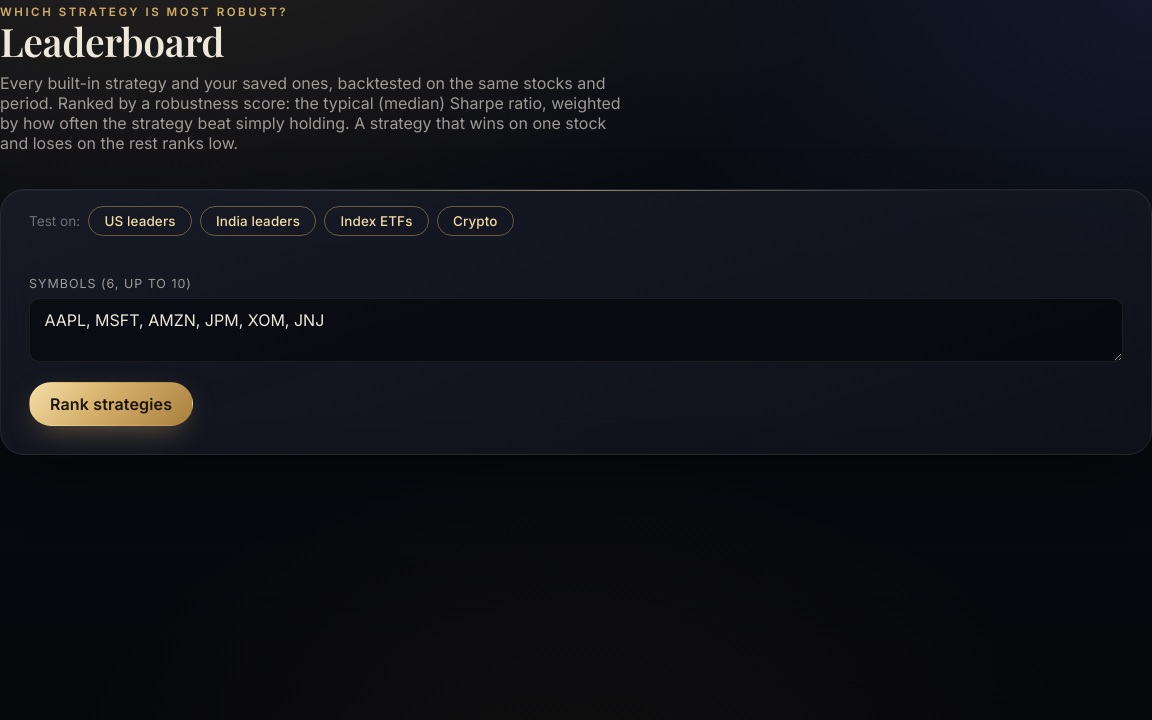
Test: SIP, options and leaderboard pages › ranks strategies and expands a row
Step 1. Click the button "Rank strategies" → (111, 404), box [29,382,193,426]
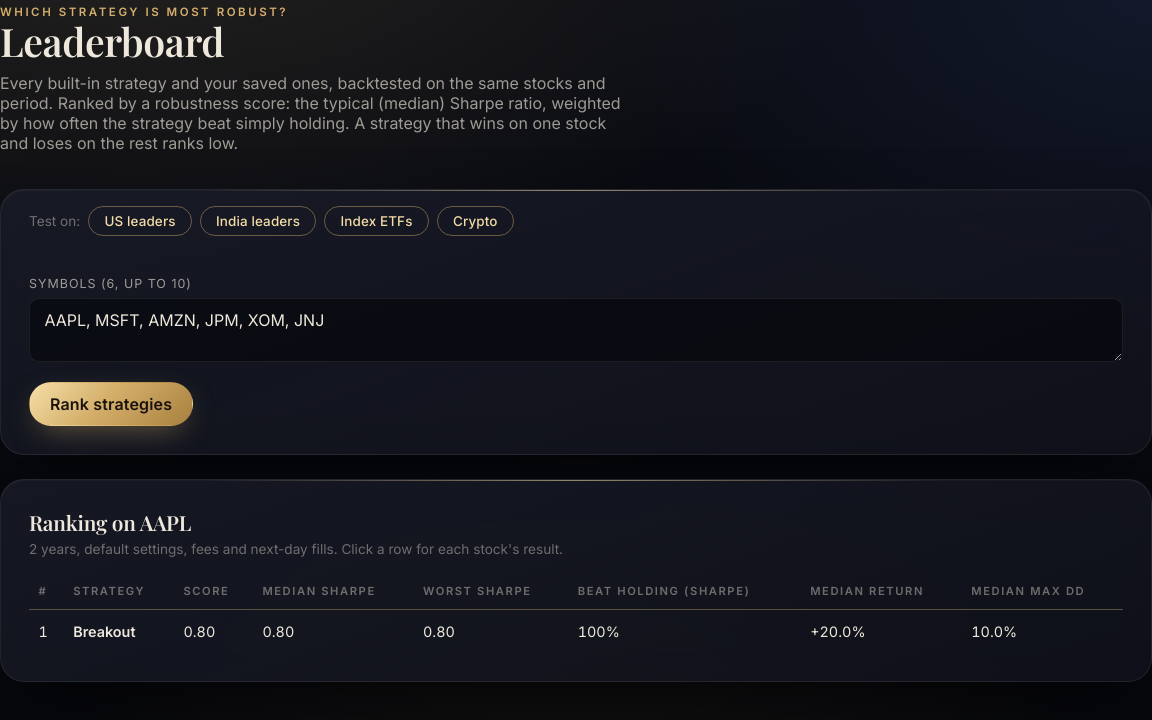
Step 2. Click the text "Breakout" → (104, 631), box [73,623,136,640]
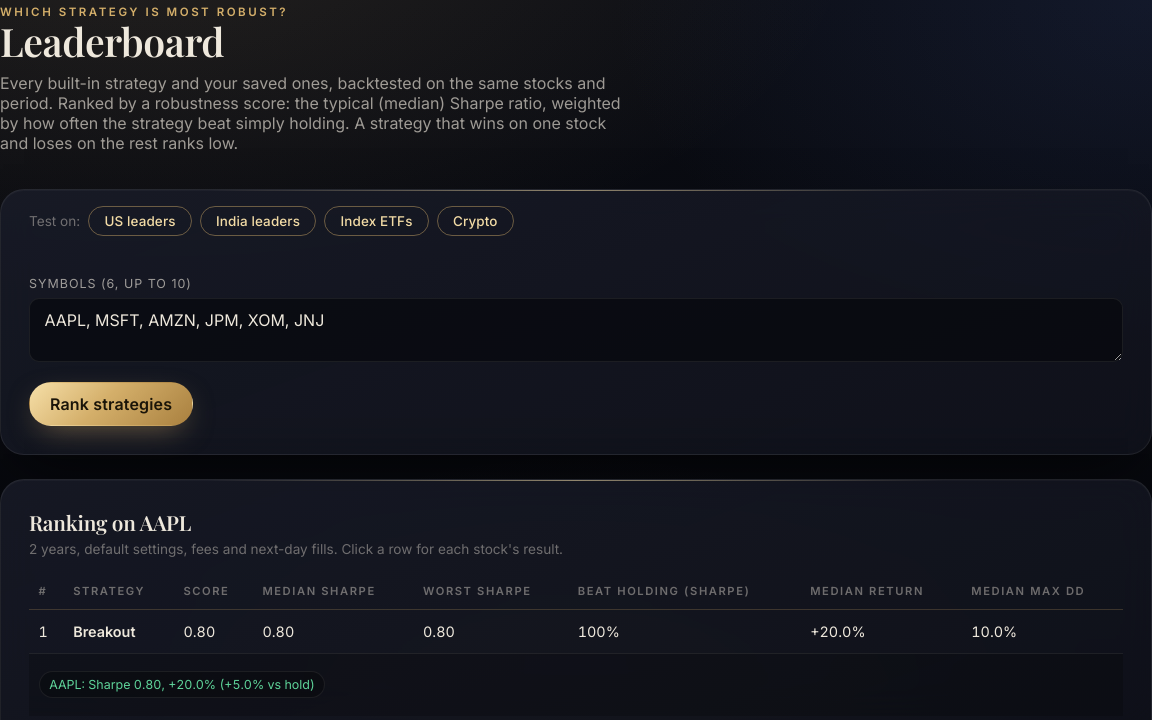
expect the text "AAPL: Sharpe 0.80, +20.0% (+5.0% vs hold)" is shown: met, box [39,671,325,698]
